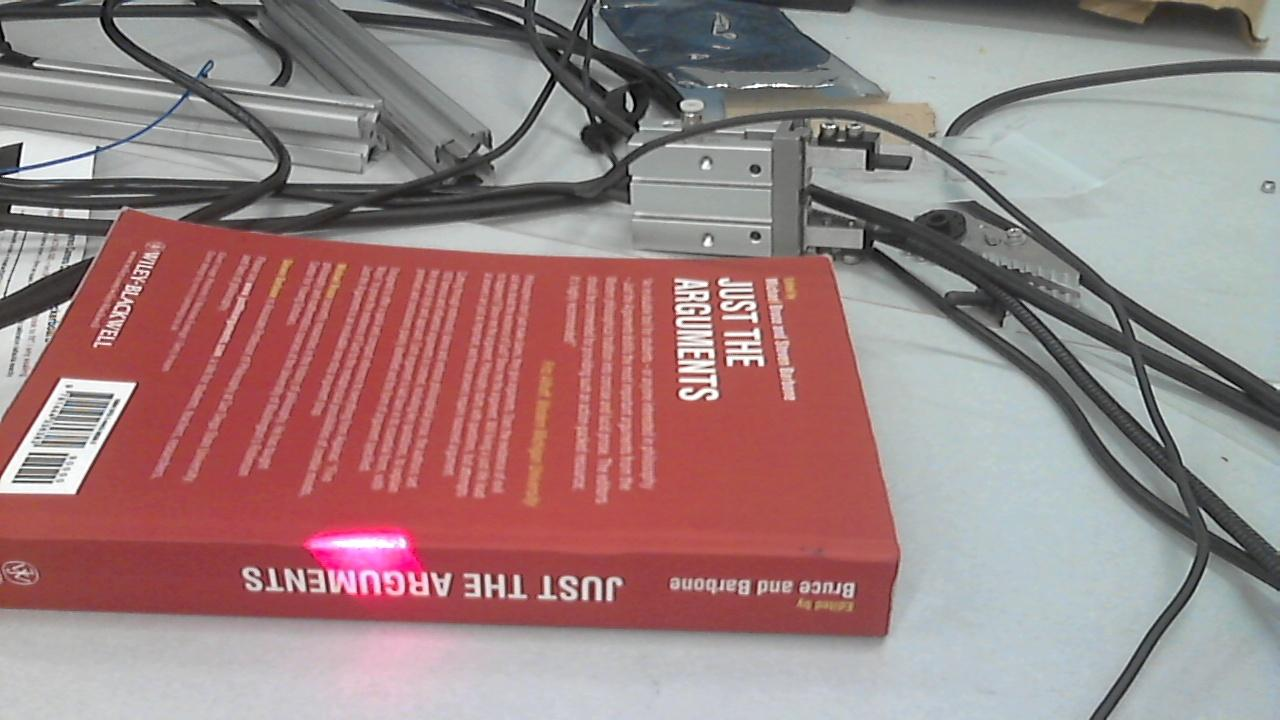Object book - Material paper - Color red - Pdfname QP9o9Hihi4G7: (275, 509, 473, 612)
